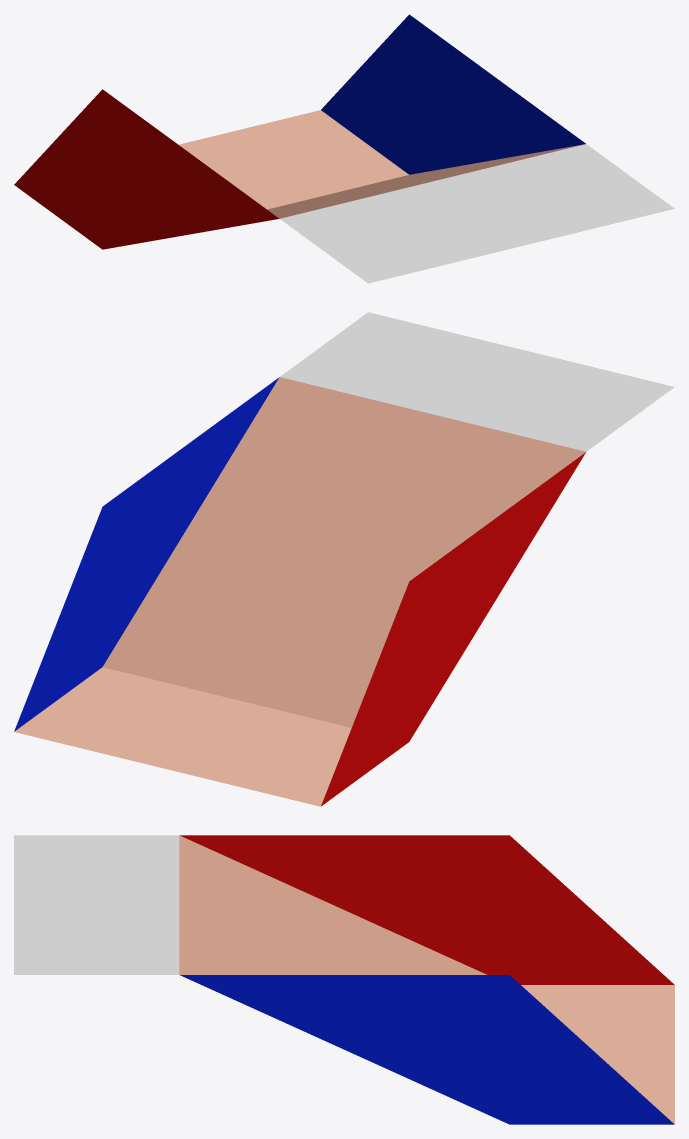
Rendered from terrain_rampLarge_detailed_shapes.glb.
The picture shows the model from 3 angles, top to bottom: view 1: azimuth 30°, elevation 25°; view 2: azimuth 150°, elevation 25°; view 3: azimuth 270°, elevation 25°; orthographic projection. The views are drawn at different scales.
Visible parts, largest first — view 1: terrain_rampLarge_detailed; view 2: terrain_rampLarge_detailed; view 3: terrain_rampLarge_detailed.
Boxes of the visible parts, x1=… form: terrain_rampLarge_detailed: x1=14, y1=14, x2=674, y2=283; terrain_rampLarge_detailed: x1=14, y1=312, x2=674, y2=806; terrain_rampLarge_detailed: x1=14, y1=835, x2=674, y2=1124.
Size of the model in its own units: 1 by 0.5 by 2.
